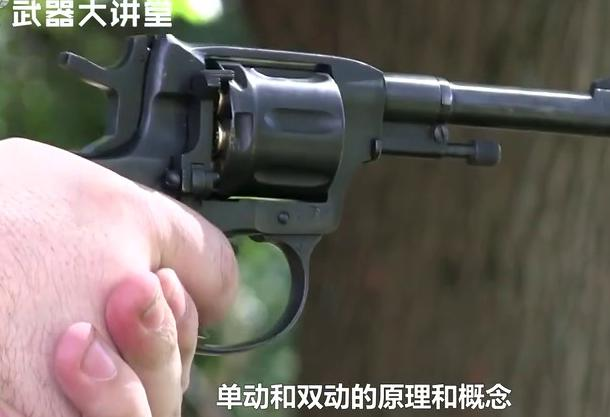gun: (1, 1, 610, 417)
